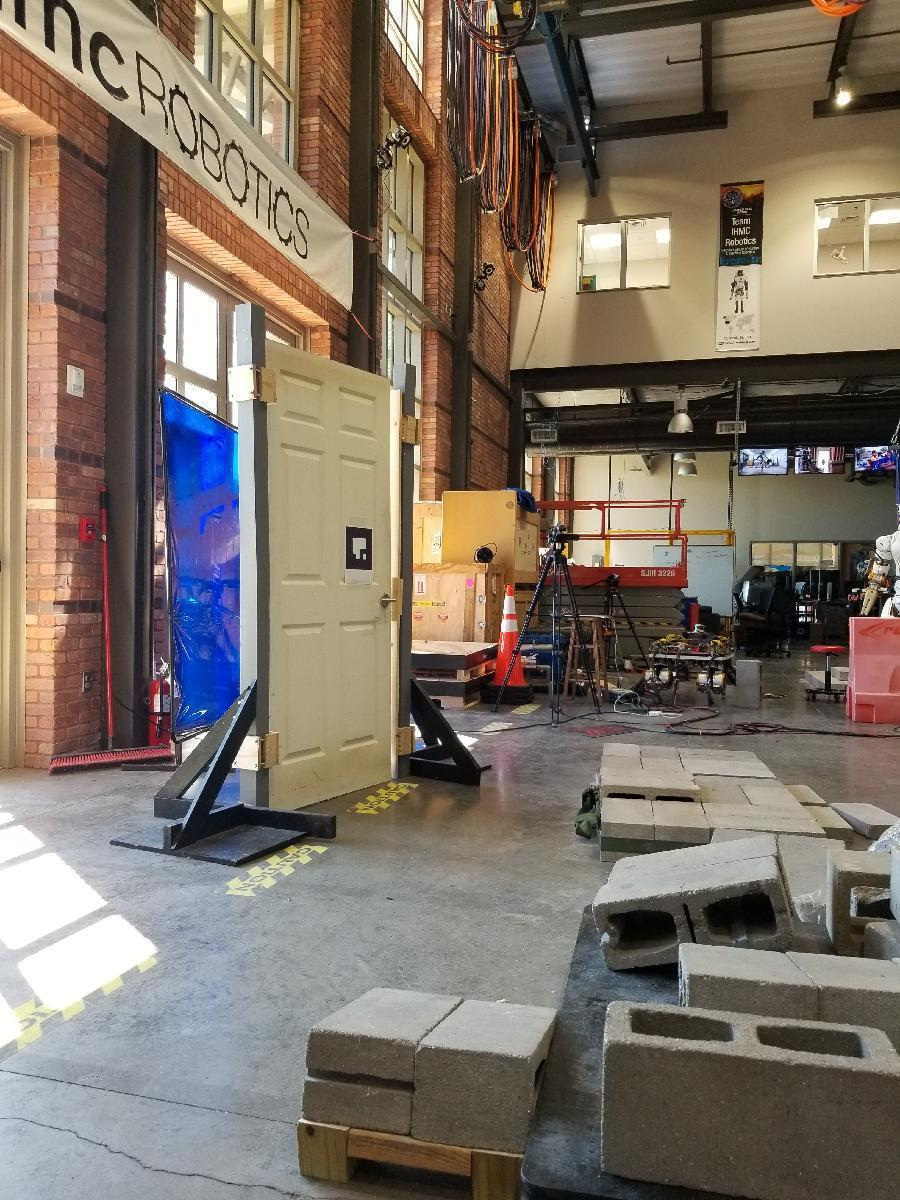door: (266, 356, 398, 816)
handle: (380, 592, 398, 610)
